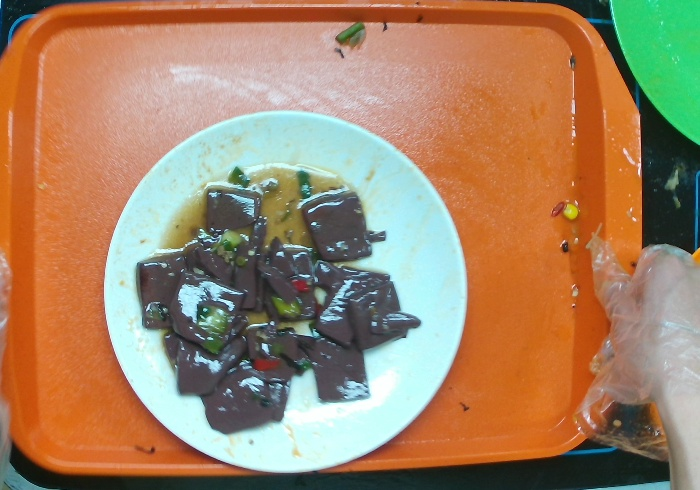HZYJPL-Bai_Se_Yuan_Pan: (101, 109, 468, 477)
